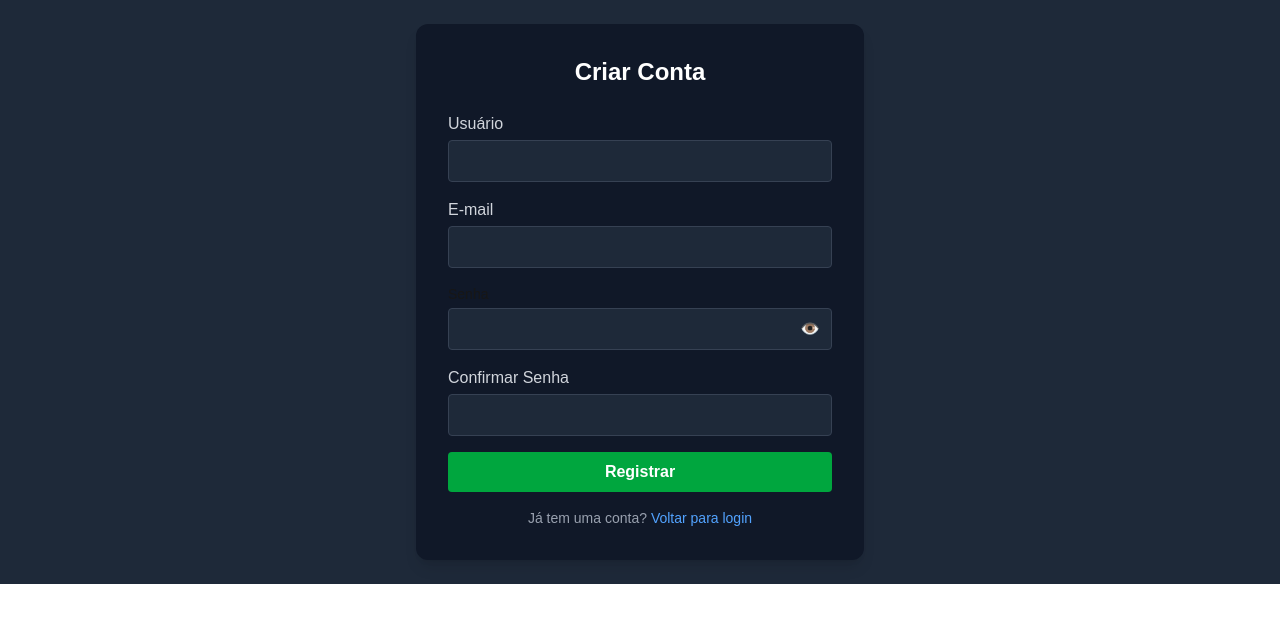
Test case: RegisterForm › exibe erros de campos retornados pela API
The width and height of the screenshot is (1280, 625).
Type "john" into the field labelled "Usuário" at (640, 161), box [448,140,832,182]
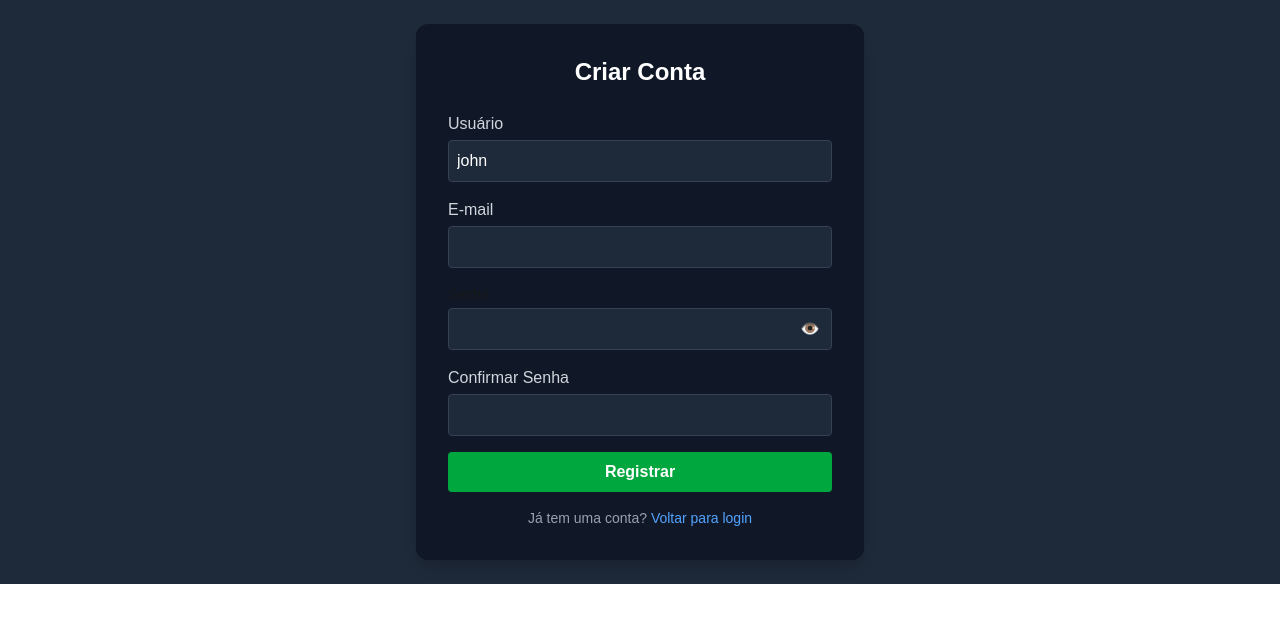
Type "john@test.com" into the field labelled "E-mail" at (640, 247), box [448,226,832,268]
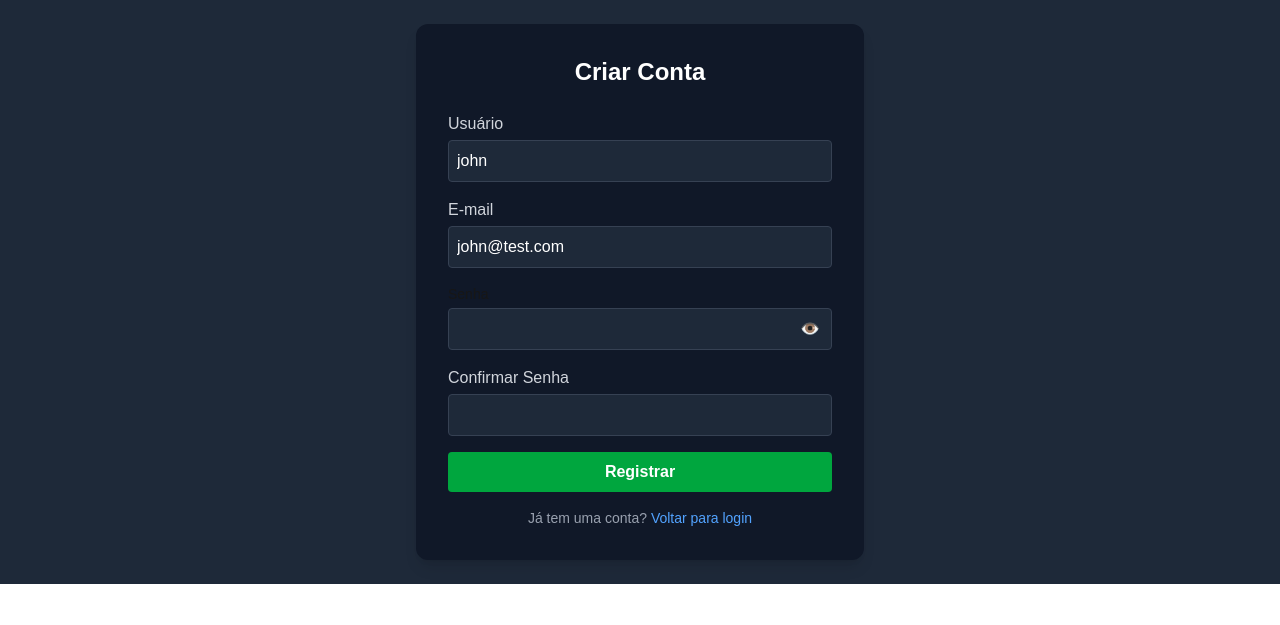
Type "123456" into the password field labelled "Senha" at (640, 329), box [448,308,832,350]
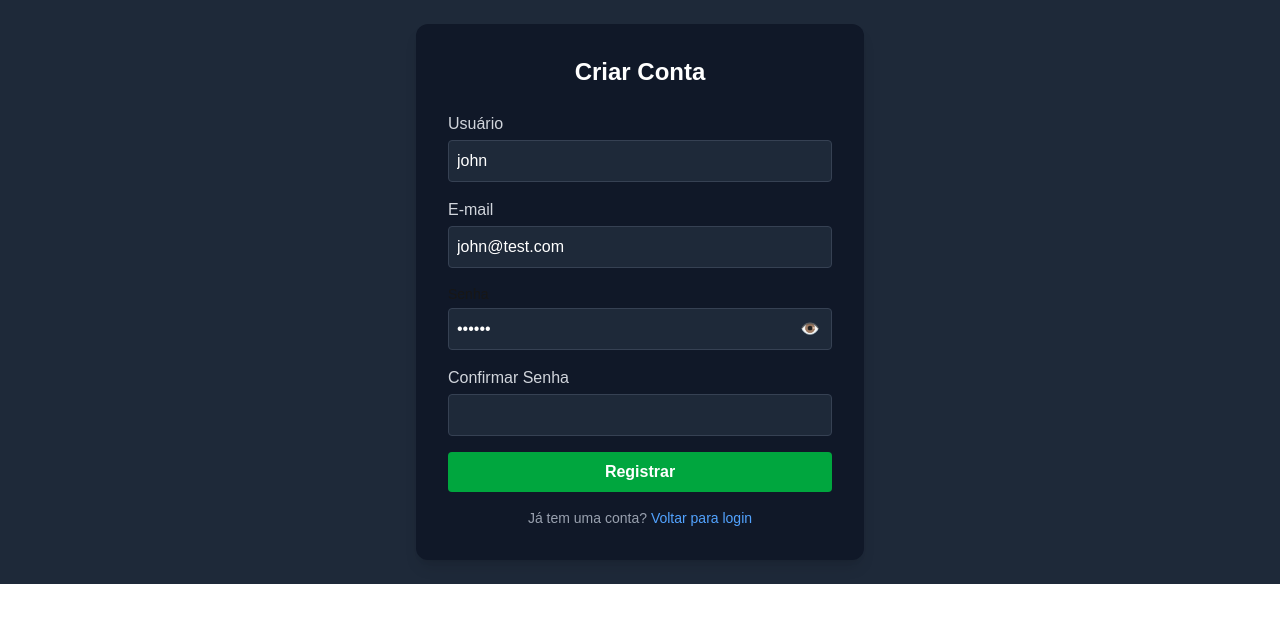
Type "123456" into the password field labelled "Confirmar Senha" at (640, 415), box [448,394,832,436]
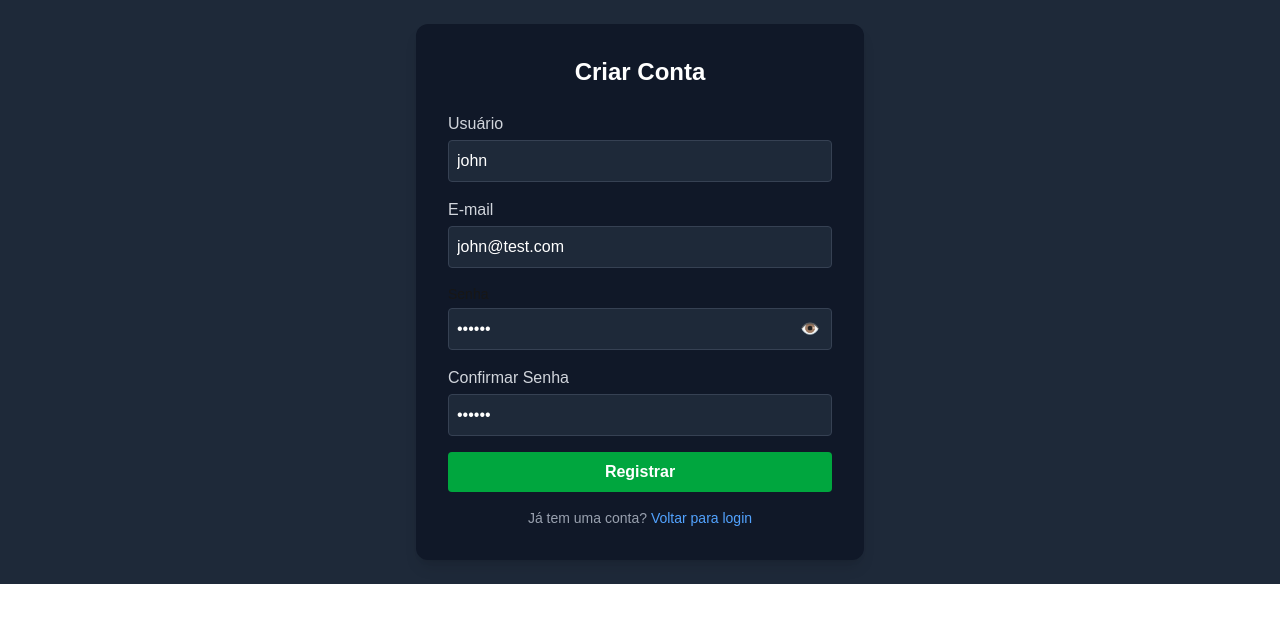
Click the button "Registrar" at (640, 472), box [448,452,832,492]
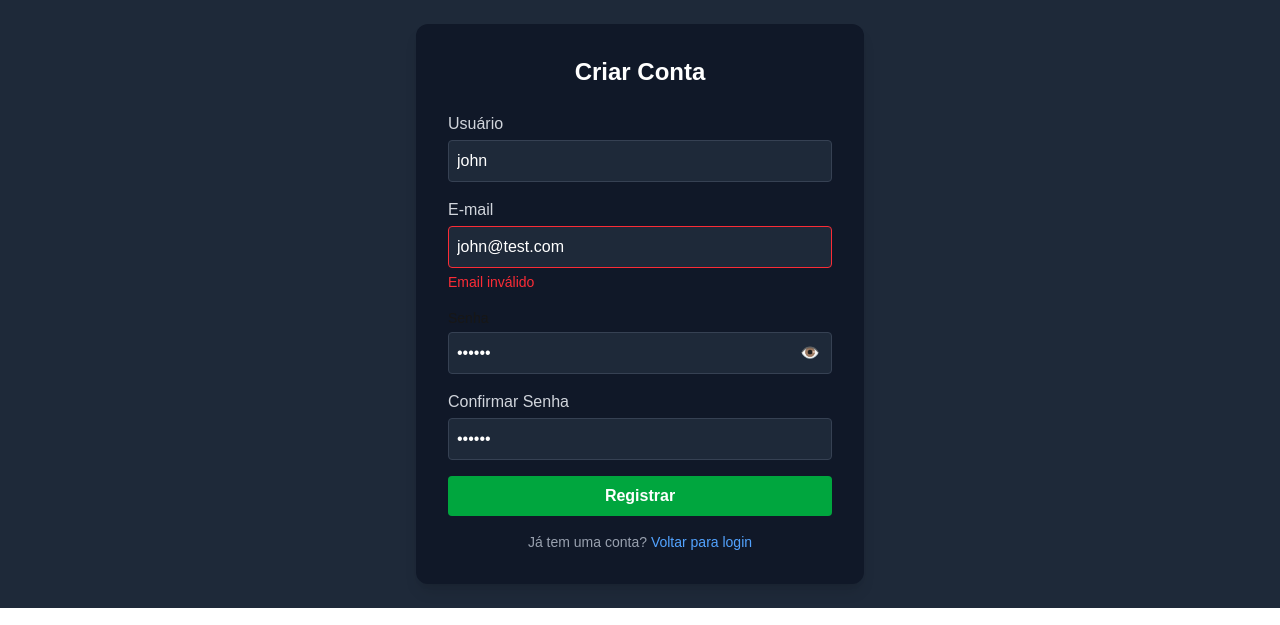
Result: the text "Email inválido" is shown at [448,274,534,290]
